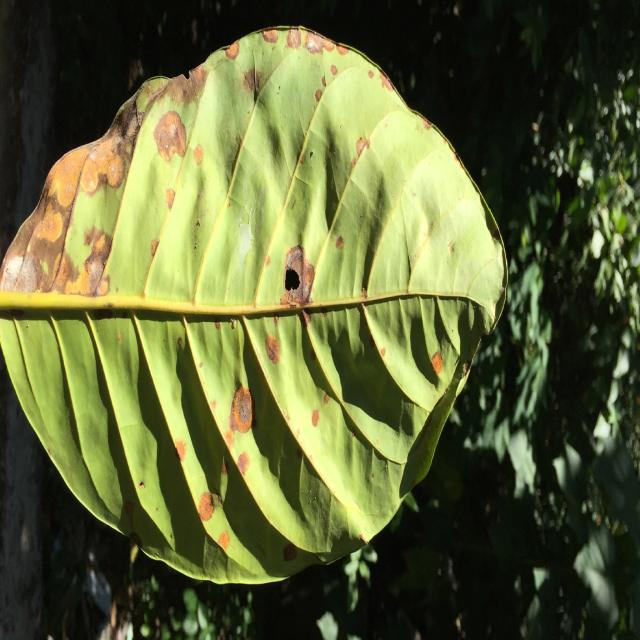Enfermedad-Mancha-de-hierro: (0, 29, 506, 588)
